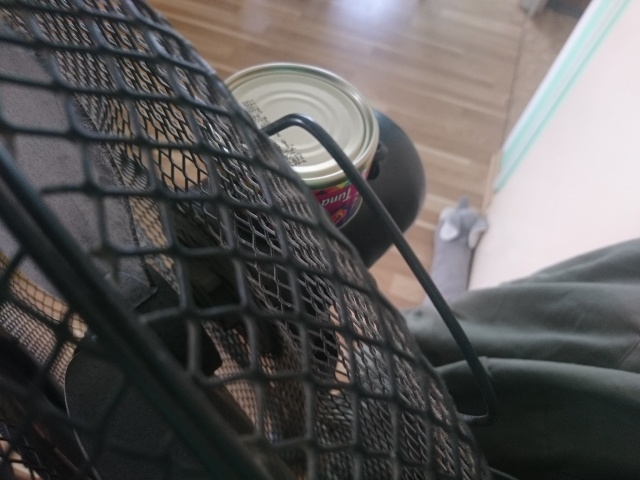Giana Tuna Salad Mexico 185g: (204, 58, 382, 241)
